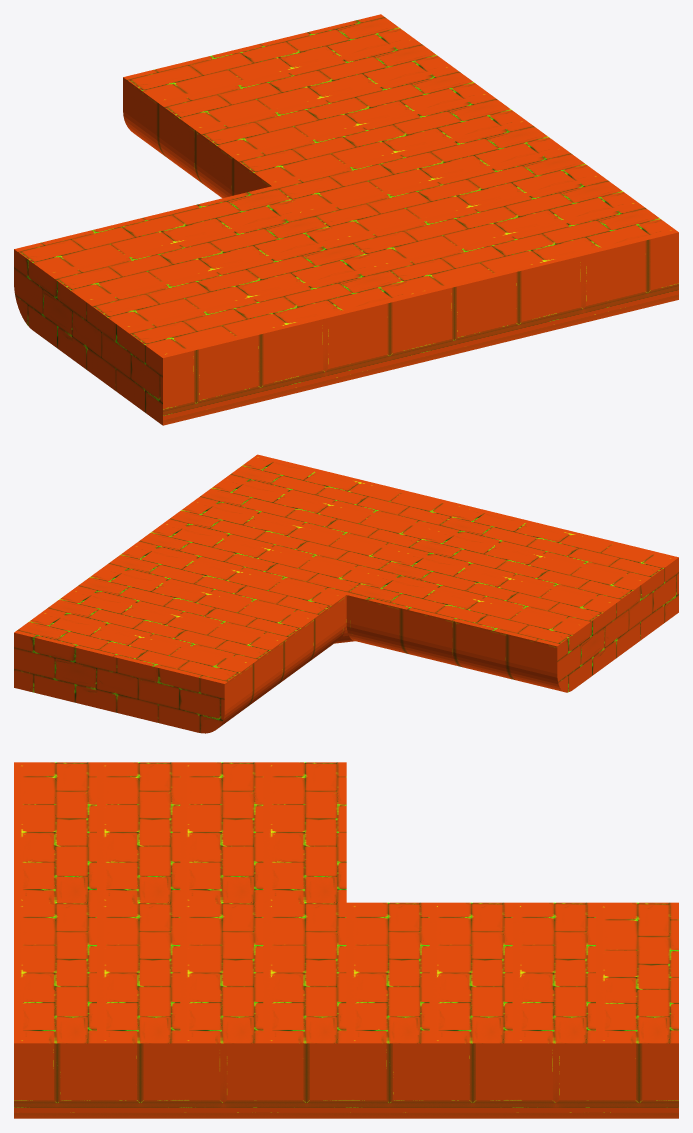
The model's file is Ceiling Corner 02.fbx.
3 renders of one model, top to bottom at view 1: azimuth 30°, elevation 25°; view 2: azimuth 150°, elevation 25°; view 3: azimuth 270°, elevation 25°, orthographic. The views are drawn at different scales.
Visible parts, largest first — view 1: pCube14; view 2: pCube14; view 3: pCube14.
Part boxes in pixels (box(x1,y1,x2,y2)): pCube14: box(14, 14, 678, 425); pCube14: box(14, 454, 678, 733); pCube14: box(14, 762, 678, 1118).
Bounding box in the file's own units: 400 × 50 × 400.
